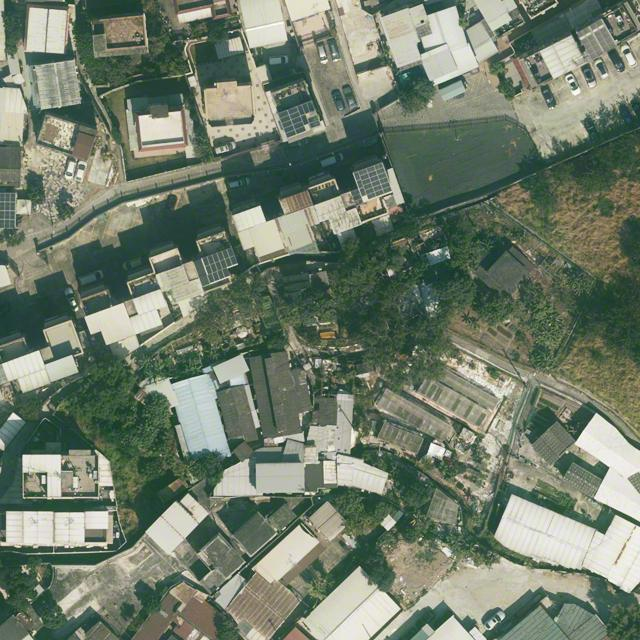panel: (354, 163, 392, 202), (278, 102, 315, 137), (201, 247, 236, 284), (0, 193, 16, 228), (309, 115, 320, 129)
